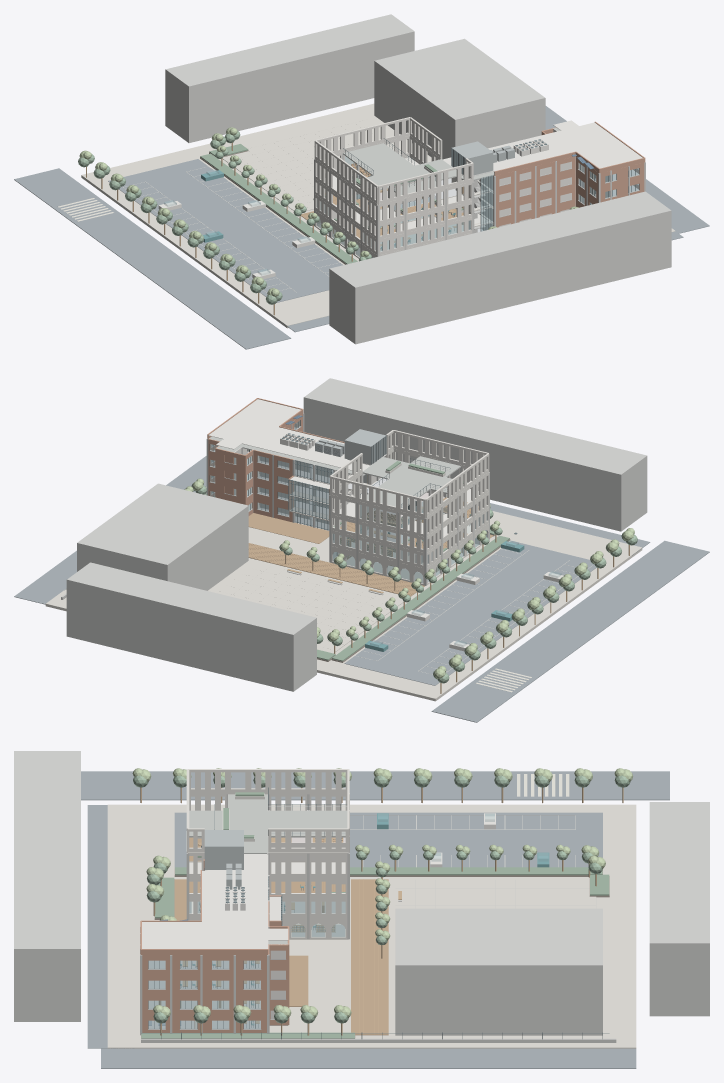
File: Gayang_Library.glb
3 renders of one model, top to bottom at view 1: azimuth 30°, elevation 25°; view 2: azimuth 150°, elevation 25°; view 3: azimuth 270°, elevation 25°, orthographic. The views are drawn at different scales.
Parts seen in each view (by area): view 1: 09_context_concrete, 09_site_asphalt, 09_site_floor, 04_exterior_facade, 09_landscape_green, 03_ceiling_white, 03_exterior_facade, 04_slab_roof, 02_exterior_facade, 01_exterior_facade, 09_landscape_leaf2, 03_exterior_brick (+10 smaller); view 2: 09_context_concrete, 09_site_asphalt, 09_site_floor, 04_exterior_facade, 09_landscape_green, 03_ceiling_white, 09_site_deck, 09_landscape_leaf2, 03_exterior_facade, 04_slab_roof, 02_exterior_facade, 01_exterior_facade (+14 smaller); view 3: 09_context_concrete, 09_site_asphalt, 09_site_floor, 09_landscape_green, 03_ceiling_white, 09_site_deck, 04_exterior_facade, 09_landscape_leaf2, 04_slab_roof, 03_exterior_facade, 09_site_concrete, 03_exterior_brick (+23 smaller).
Boxes of the visible parts, x1,y1,x2,y2 form: 09_context_concrete: (165,14,671,344); 09_site_asphalt: (14,106,709,349); 09_site_floor: (81,103,675,328); 04_exterior_facade: (314,117,473,205); 09_landscape_green: (78,130,371,304); 03_ceiling_white: (343,120,642,192); 03_exterior_facade: (315,137,472,224); 04_slab_roof: (343,127,560,194); 02_exterior_facade: (315,157,472,240); 01_exterior_facade: (315,195,472,256); 09_landscape_leaf2: (79,127,578,296); 03_exterior_brick: (496,127,644,191); 09_context_concrete: (66,378,647,691); 09_site_asphalt: (14,456,709,722); 09_site_floor: (45,486,642,701); 04_exterior_facade: (329,430,489,518); 09_landscape_green: (191,482,637,683); 03_ceiling_white: (208,399,460,504); 09_site_deck: (248,513,494,596); 09_landscape_leaf2: (184,478,634,678); 03_exterior_facade: (331,450,488,538); 04_slab_roof: (209,436,467,508); 02_exterior_facade: (331,488,488,553); 01_exterior_facade: (331,509,488,569); 09_context_concrete: (14,751,709,1035); 09_site_asphalt: (81,771,669,1068); 09_site_floor: (107,804,636,1048); 09_landscape_green: (133,775,630,1038); 03_ceiling_white: (142,837,345,948); 09_site_deck: (174,879,388,1035); 04_exterior_facade: (186,769,349,853); 09_landscape_leaf2: (132,768,633,1018); 04_slab_roof: (189,794,347,944); 03_exterior_facade: (189,794,347,878); 09_site_concrete: (141,880,616,1042); 03_exterior_brick: (142,859,289,974).
Size of the model in its own units: 105 by 22.62 by 104.
